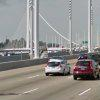Car: (41, 52, 100, 89)
